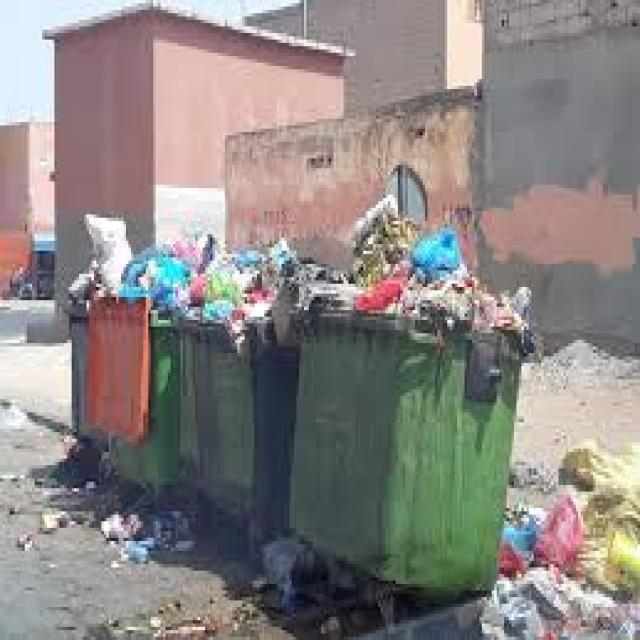garbage: (44, 221, 612, 622)
